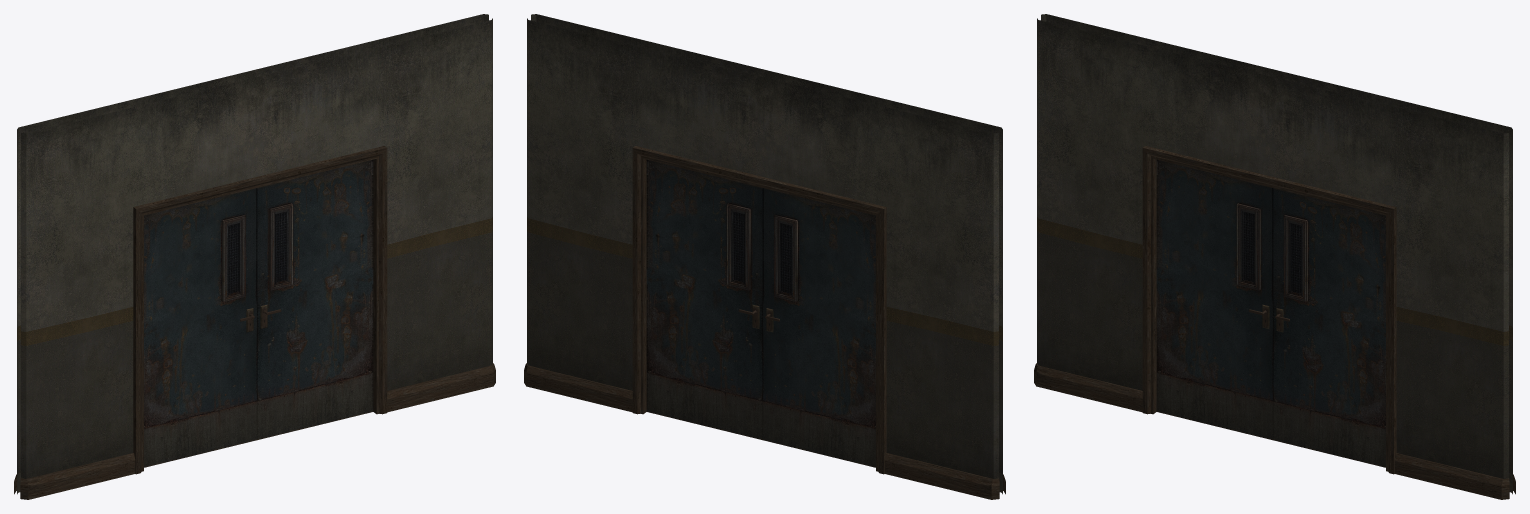
The model's file is doorway_3_wide.obj.
3 views of the same model, side by side, from view 1: azimuth 30°, elevation 25°; view 2: azimuth 150°, elevation 25°; view 3: azimuth 330°, elevation 25° (orthographic).
Visible parts, largest first — view 1: doorway_3_wide, double_door_3_piece_2, double_door_3_piece_1; view 2: doorway_3_wide, double_door_3_piece_2, double_door_3_piece_1; view 3: doorway_3_wide, double_door_3_piece_1, double_door_3_piece_2.
Boxes of the visible parts, x1,y1,x2,y2 form: doorway_3_wide: (14, 14, 495, 499); double_door_3_piece_2: (257, 159, 373, 440); double_door_3_piece_1: (144, 188, 256, 467); doorway_3_wide: (524, 14, 1005, 499); double_door_3_piece_2: (646, 159, 762, 440); double_door_3_piece_1: (763, 188, 875, 467); doorway_3_wide: (1034, 14, 1515, 499); double_door_3_piece_1: (1156, 159, 1272, 440); double_door_3_piece_2: (1273, 188, 1385, 467).
Size of the model in its own units: 4.09 by 3 by 0.2.
